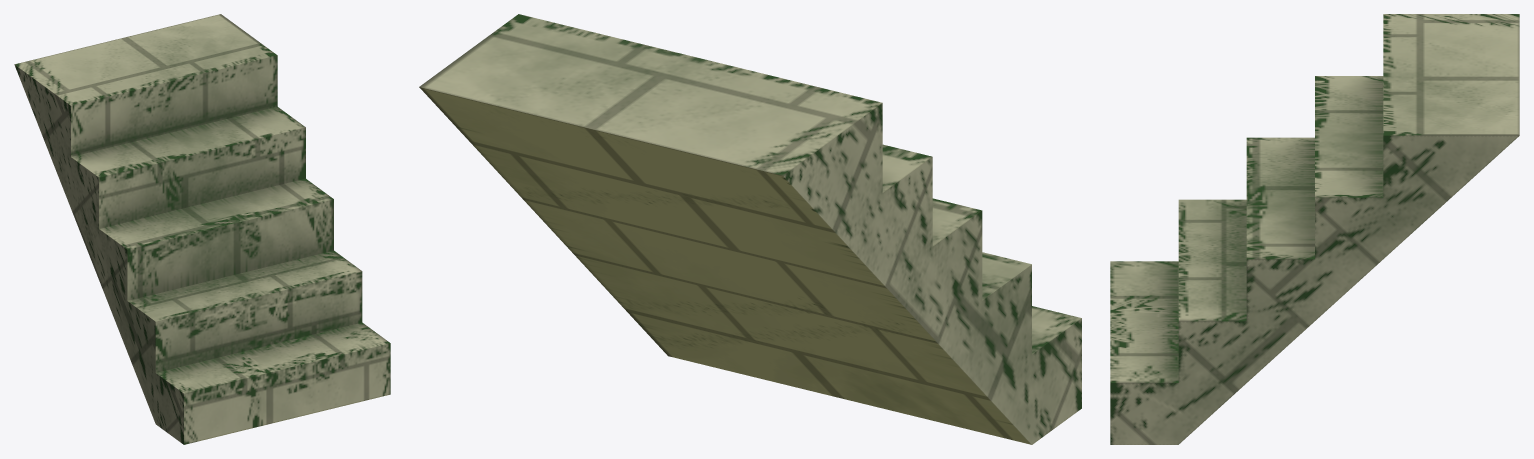
Rendered from Short Stair.fbx.
3 renders of one model, left to right at view 1: azimuth 30°, elevation 25°; view 2: azimuth 150°, elevation 25°; view 3: azimuth 270°, elevation 25°, orthographic. The views are drawn at different scales.
Parts seen in each view (by area): view 1: Short Stair; view 2: Short Stair; view 3: Short Stair.
Boxes of the visible parts, x1,y1,x2,y2 form: Short Stair: (14,14,390,444); Short Stair: (419,14,1081,444); Short Stair: (1110,14,1519,444).
Size of the model in its own units: 188 by 222 by 267.
Materials: 1 (1 with a texture image).
